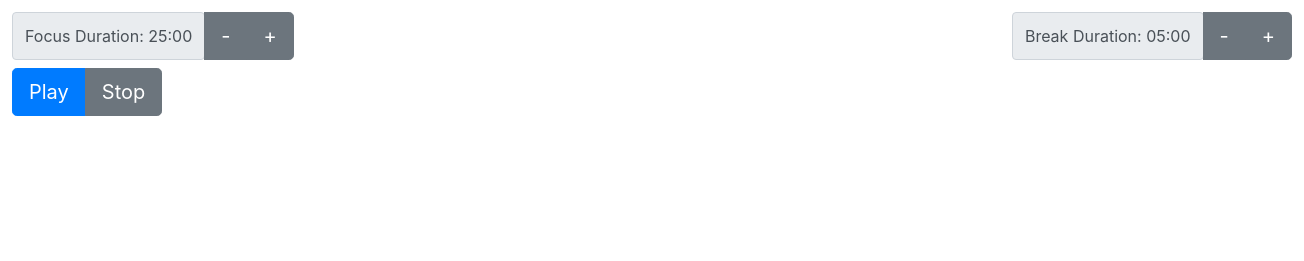
Test: Pomodoro Timer › Session title › displays "Focusing for 25:00 minutes" by default
This screenshot has width=1304, height=261.
Step 1. Click the button with test id "play-pause" → (49, 92), box [12,68,86,116]
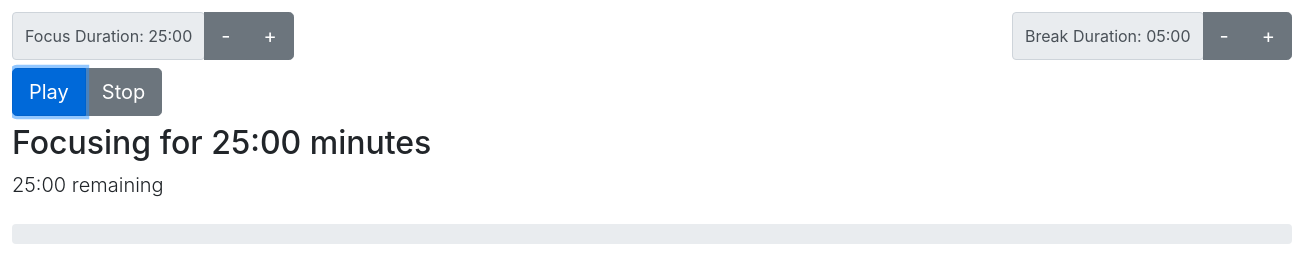
Result: the heading with test id "session-title" reads "Focusing for 25:00 minutes" at [12,123,431,162]
